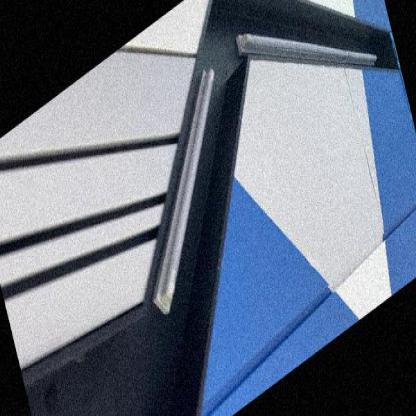light_off: (106, 41, 260, 333), (226, 0, 392, 180)
